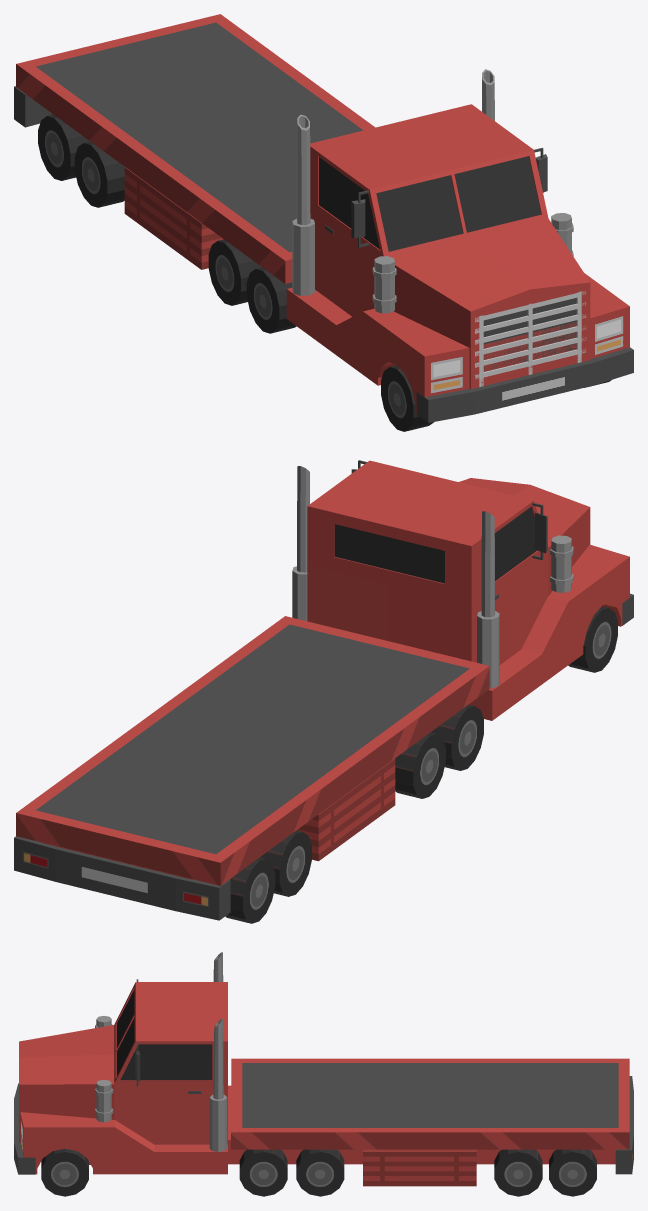
Rendered from Car_RedTruck.glb.
3 views of the same model, one above another, from view 1: azimuth 30°, elevation 25°; view 2: azimuth 150°, elevation 25°; view 3: azimuth 270°, elevation 25° (orthographic). The views are drawn at different scales.
Visible parts, largest first — view 1: Object_58.001; view 2: Object_58.001; view 3: Object_58.001.
Boxes of the visible parts, left/top/right/bottom form: Object_58.001: left=14, top=14, right=633, bottom=431; Object_58.001: left=14, top=460, right=633, bottom=923; Object_58.001: left=14, top=952, right=633, bottom=1196.
Size of the model in its own units: 3.94 by 4.3 by 13.88.
1 material, 1 textured.
